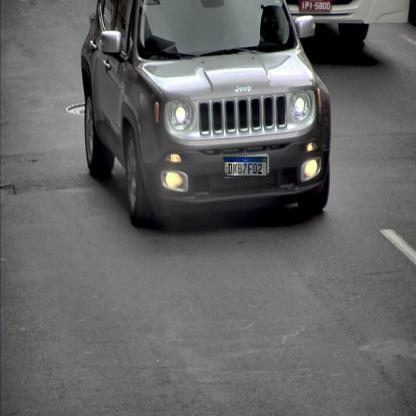PlacaM: (224, 156, 267, 177)
